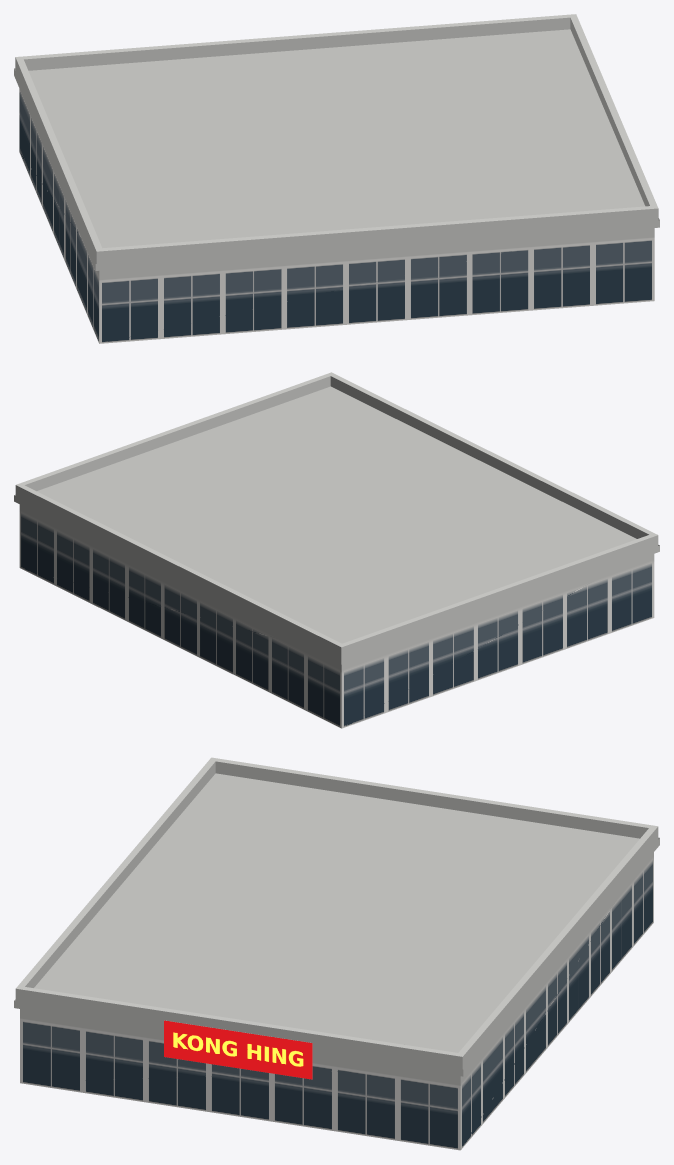
The model's file is konghing_sm.glb.
3 renders of one model, top to bottom at view 1: azimuth 30°, elevation 25°; view 2: azimuth 150°, elevation 25°; view 3: azimuth 270°, elevation 25°, orthographic. The views are drawn at different scales.
Parts seen in each view (by area): view 1: konghing_sm_lod0; view 2: konghing_sm_lod0; view 3: konghing_sm_lod0.
Boxes of the visible parts, bbox=[...] form: konghing_sm_lod0: bbox=[14, 14, 659, 343]; konghing_sm_lod0: bbox=[14, 372, 659, 728]; konghing_sm_lod0: bbox=[14, 757, 659, 1150].
Size of what is drawn, in the model's own units: 54.1 by 8 by 49.09.
Materials: 4 (2 with a texture image).
